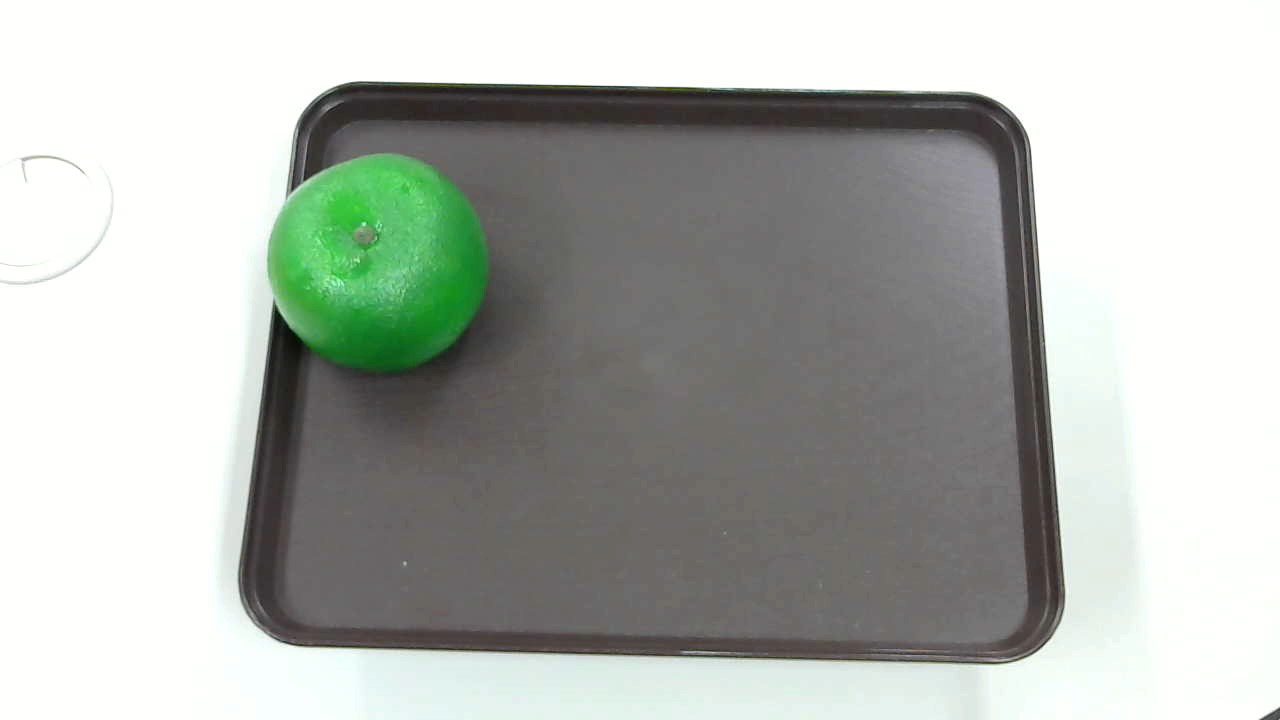green orange: (257, 147, 500, 385)
